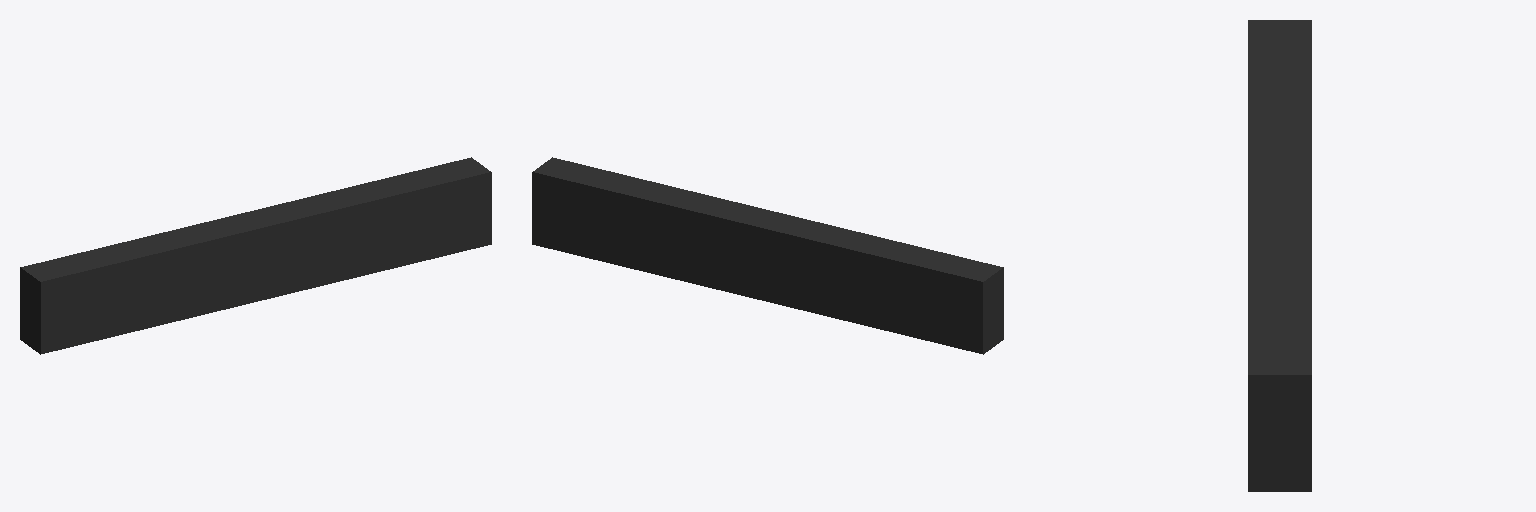
robot.urdf — wall:
<robot name="wall">
  <link name="baseLink">
   
    <inertial>
      <origin rpy="0 0 0" xyz="0 0 0" />
       <mass value="10" />
       <inertia ixx="0" ixy="0" ixz="0" iyy="0" iyz="0" izz="0" />
    </inertial>
    <visual>
      <origin rpy="0 0 0" xyz="0 0 0" />
      <geometry>
			  <box size="6.5 0.5 1" />
      </geometry>
       <material name="grey">
        <color rgba="0.24 0.24 0.24 1" />
      </material>
    </visual>
    <collision>
      <origin rpy="0 0 0" xyz="0 0 0" />
      <geometry>
	 	      <box size="6.5 0.5 1" />
      </geometry>
    </collision>
  </link>
</robot>

--- Facts derived from the render (not from the file) ---
Views: 3 orthographic renders of the robot side by side, from view 1: azimuth 30°, elevation 25°; view 2: azimuth 150°, elevation 25°; view 3: azimuth 270°, elevation 25°.
Robot: wall — 1 links, 0 joints (none); root link baseLink; default pose: every joint at zero.
Visible links, largest first — view 1: baseLink; view 2: baseLink; view 3: baseLink.
Link boxes in pixels (x1,y1,x2,y2): baseLink: (20,157,491,354); baseLink: (532,157,1003,354); baseLink: (1248,20,1311,491).
Size in the robot's own frame: 6.5 by 0.5 by 1 metres.
Geometry: primitives only (box / cylinder / sphere), no mesh files.
